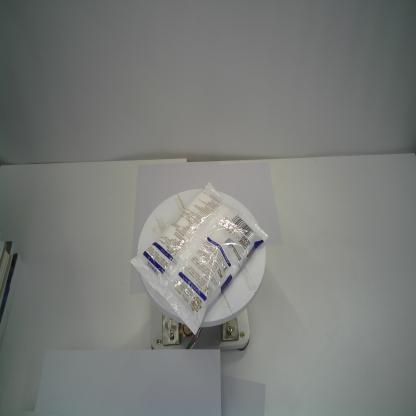Seasoner: (129, 182, 268, 336)
